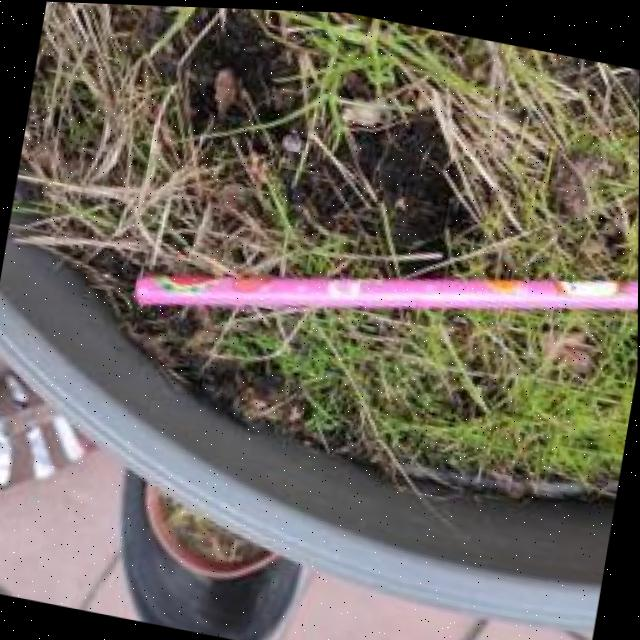pencil: (123, 266, 639, 312)
